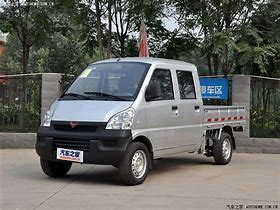smalltruck: (31, 46, 248, 184)
